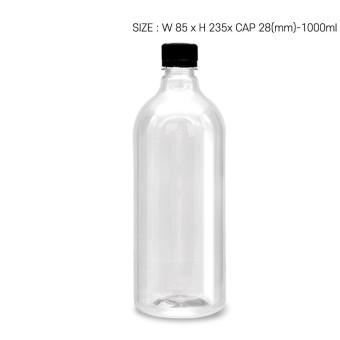plastic_bottle: (127, 39, 231, 320)
